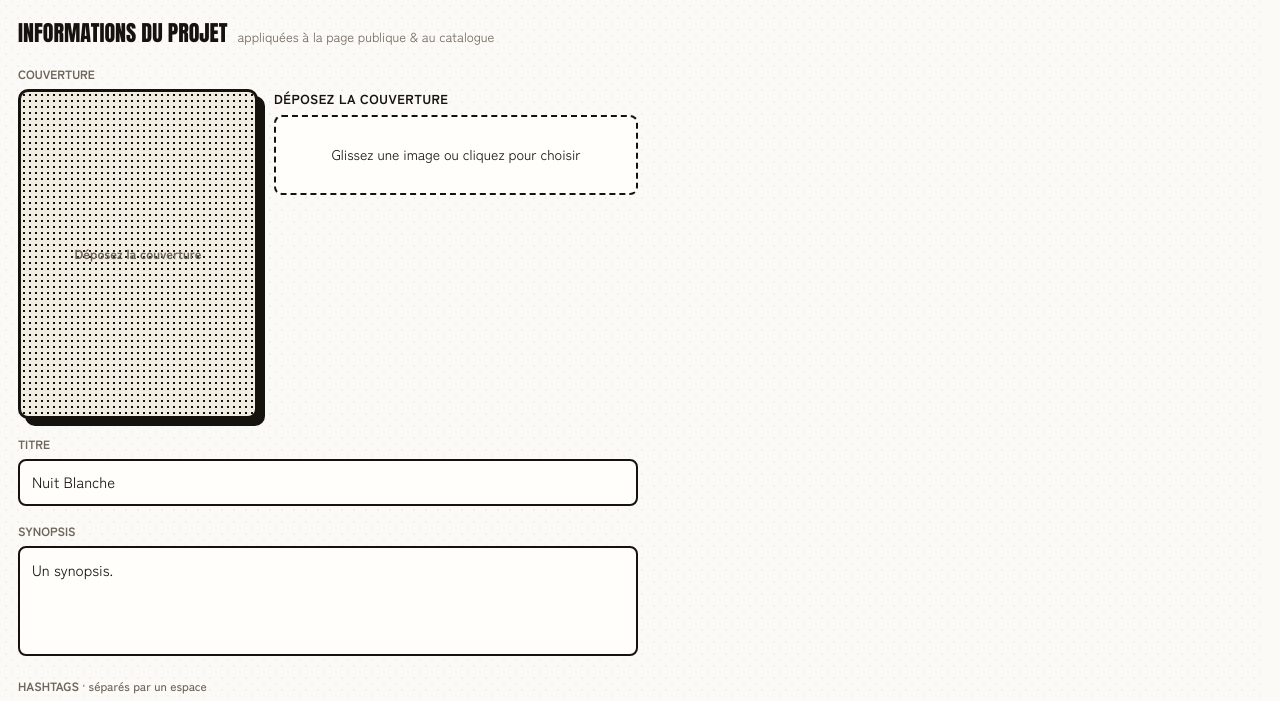
Test: InfosPanel › debounces a title edit into one PATCH and shows "Enregistré"
The image size is (1280, 701).
In the field labelled "TITRE": (328, 482) [18,459,638,506], type "!"
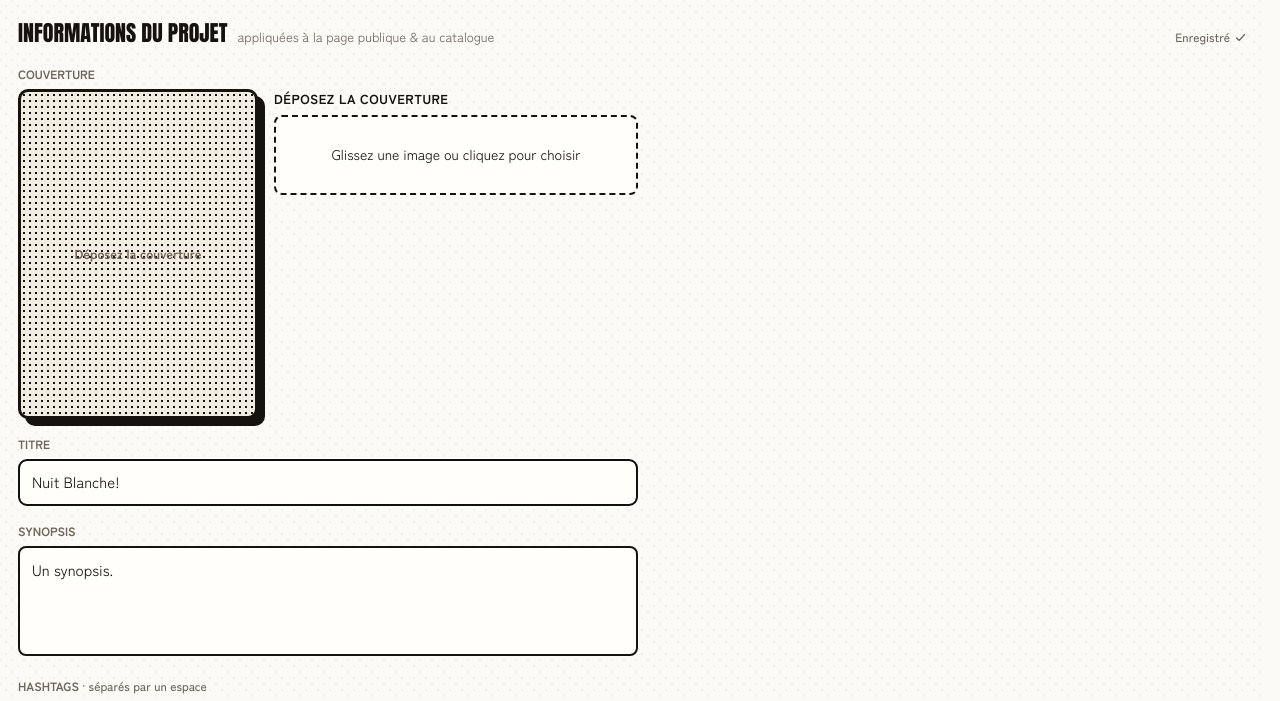
Result: the text "Enregistré" is shown at [1175,28,1247,46]
